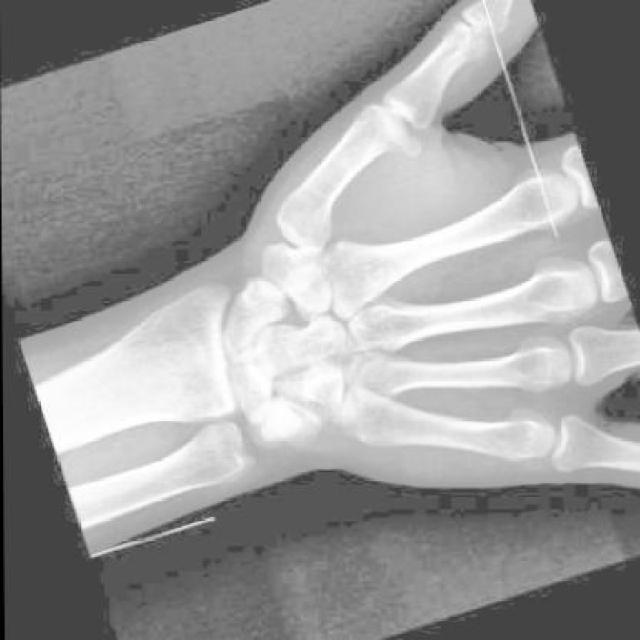Fracture: (257, 402, 301, 445)
